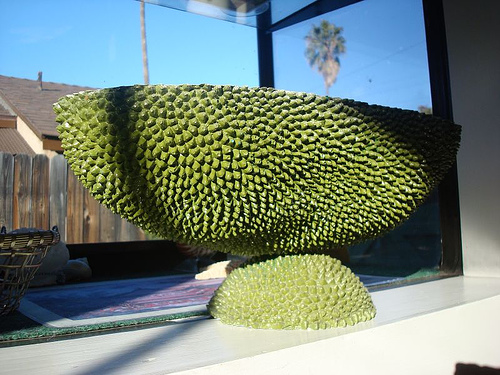jackfruit: (51, 84, 464, 260), (204, 254, 375, 332)
